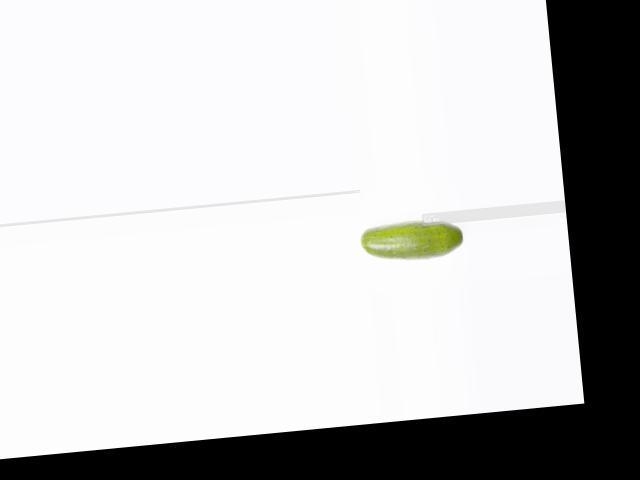cucumber: (358, 215, 466, 265)
